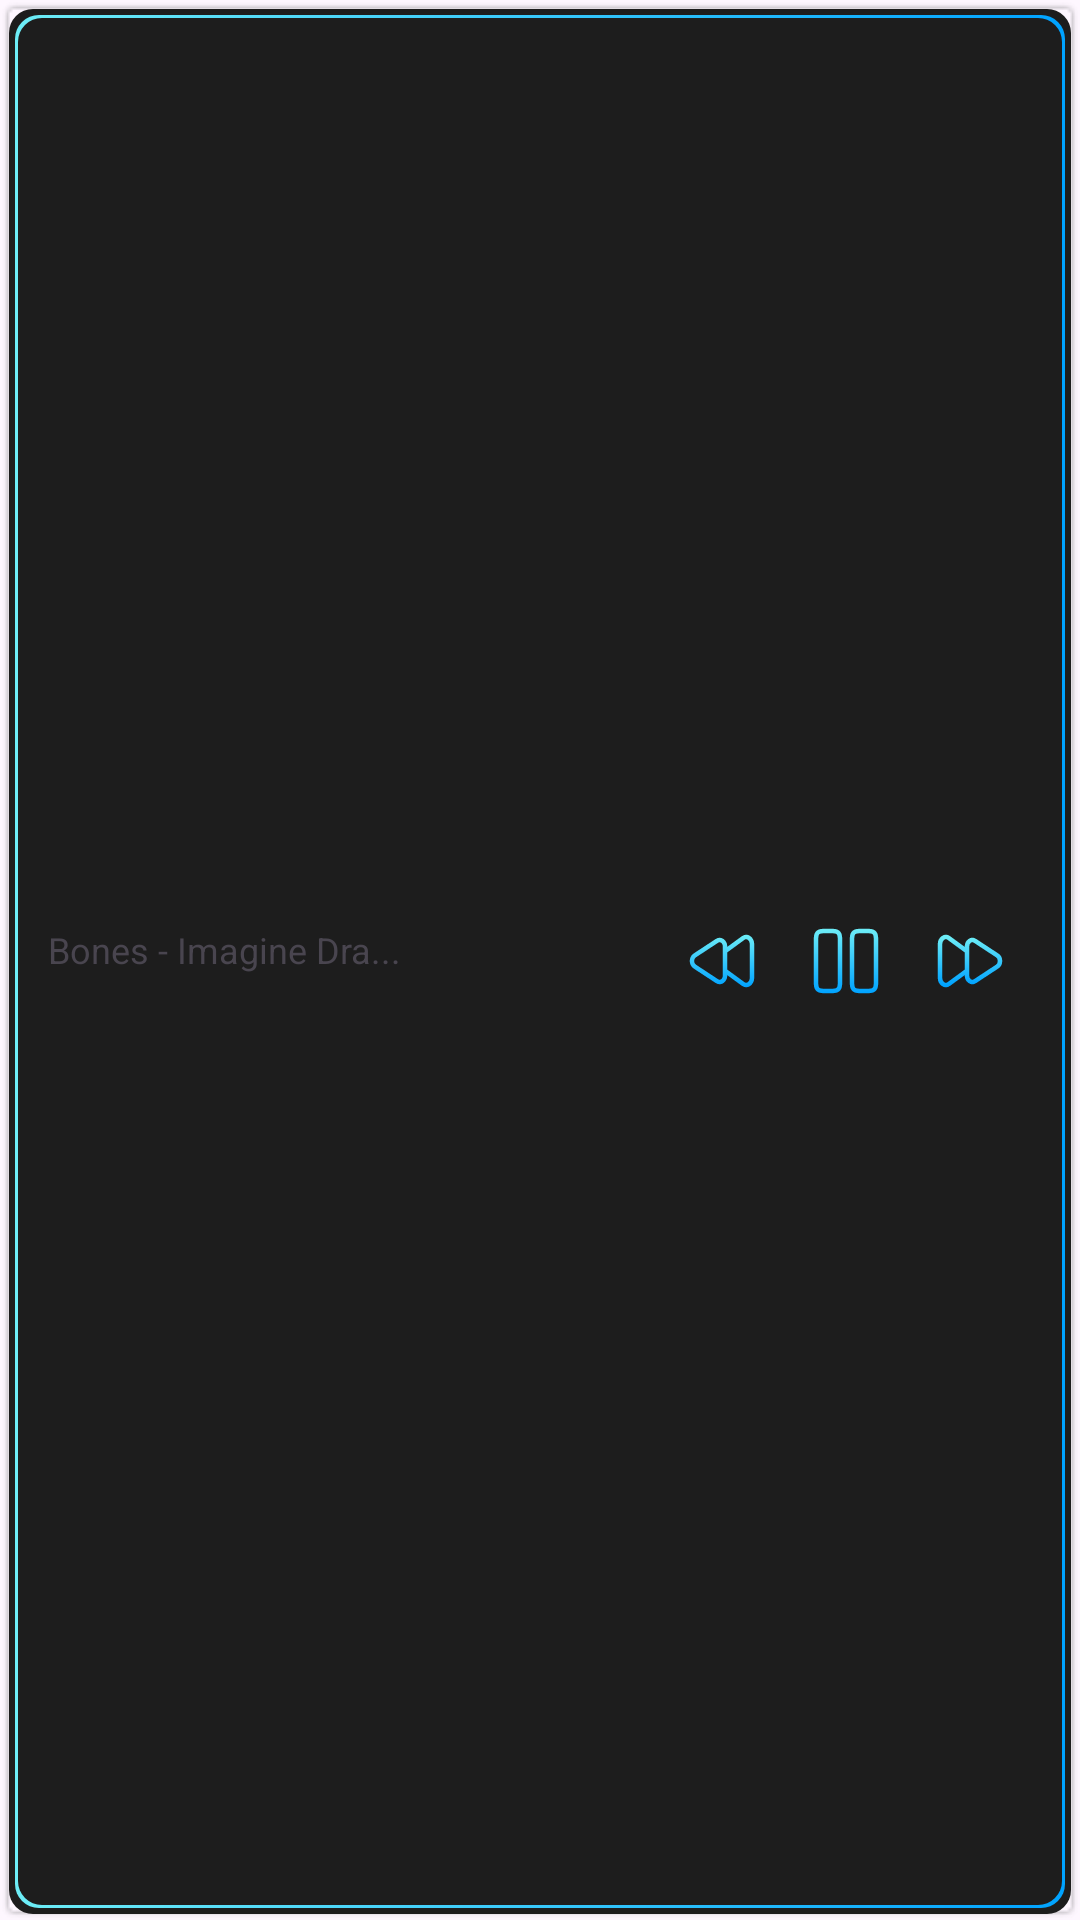

Icon click points for this 1080px×1920px phone screenshot, format [x,y]:
pause: [846,961]
rewind back: [722,961]
rewind forward: [970,961]
